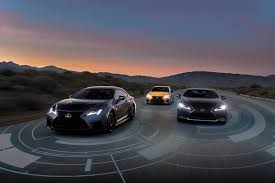car: (42, 81, 141, 135), (171, 81, 239, 134), (138, 79, 176, 109)
